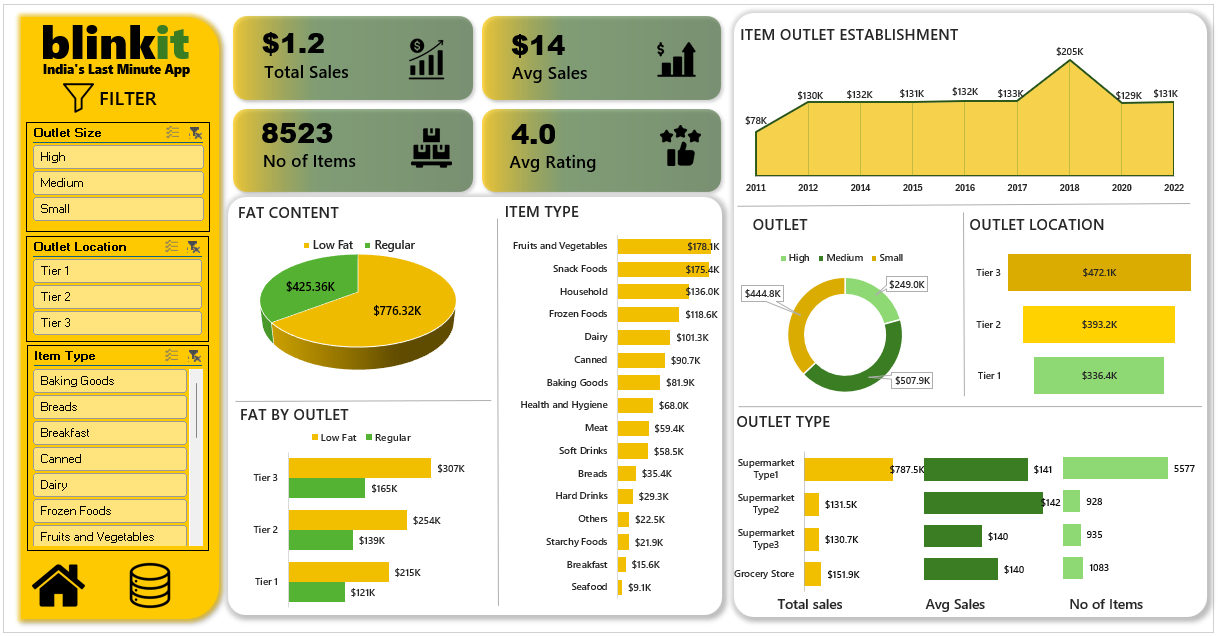

The dashboard page shown, as its layout file describes it:
{"tool":"powerbi","page":{"name":"Page 1","canvas":[1400,780],"ordinal":0},"visuals":[{"type":"shape","box":[12,0,204.1,780.4],"z":0},{"type":"textbox","box":[28.5,3,168.1,81],"z":1000},{"type":"textbox","box":[28.5,69,168.1,30],"z":2000},{"type":"cardVisual","fields":{"Data":["BlinkIT Grocery Data.Total Sales","BlinkIT Grocery Data.Avg Sales","BlinkIT Grocery Data.No of Items","BlinkIT Grocery Data.Avg Rating"]},"box":[220,8.3,570,270],"z":3000},{"type":"shape","box":[225.1,270.2,561.3,510.3],"z":4000},{"type":"donutChart","title":"FAT CONTENT","fields":{"Y":["BlinkIT Grocery Data.Total Sales"],"Category":["BlinkIT Grocery Data.Item Fat Content"]},"box":[244.6,336.2,244.6,210.1],"z":5000},{"type":"slicer","fields":{"Values":["Metrics.Metrics"]},"box":[243.1,286.7,523.8,50],"z":6000},{"type":"cardVisual","fields":{"Data":["BlinkIT Grocery Data.Total Sales"]},"box":[315.2,426.2,100.6,69],"z":7000},{"type":"clusteredBarChart","title":"FAT BY OUTLET","fields":{"Y":["BlinkIT Grocery Data.Total Sales"],"Category":["BlinkIT Grocery Data.Outlet Location Type"],"Series":["BlinkIT Grocery Data.Item Fat Content"]},"box":[244.6,553.8,235.6,223.6],"z":8000},{"type":"shape","box":[247.6,534.3,225.1,24],"z":9000},{"type":"shape","box":[487.8,331.7,13.5,436.8],"z":10000},{"type":"barChart","title":"ITEM TYPE","fields":{"Y":["BlinkIT Grocery Data.Total Sales"],"Category":["BlinkIT Grocery Data.Item Type"]},"box":[505.8,336.2,261.2,432.2],"z":11000},{"type":"shape","box":[797,0,603.3,777.4],"z":12000},{"type":"lineChart","title":"OUTLET ESTABLISHMENT","fields":{"Category":["BlinkIT Grocery Data.Outlet Establishment Year"],"Y":["BlinkIT Grocery Data.Total Sales"]},"box":[813.5,31.5,570.3,238.6],"z":13000},{"type":"shape","box":[813.5,270.2,559.8,16.5],"z":14000},{"type":"shape","box":[1086.6,288.2,12,237.1],"z":15000},{"type":"donutChart","title":"OUTLET SIZE","fields":{"Category":["BlinkIT Grocery Data.Outlet Size"],"Y":["BlinkIT Grocery Data.Total Sales"]},"box":[813.5,295.7,273.2,238.6],"z":16000},{"type":"funnel","title":"OUTLET LOCATION","fields":{"Y":["Sum(BlinkIT Grocery Data.Sales)"],"Category":["BlinkIT Grocery Data.Outlet Location Type"]},"box":[1106.1,295.7,273.2,238.6],"z":17000},{"type":"shape","box":[819.5,537.3,559.8,16.5],"z":18000},{"type":"pivotTable","title":"OUTLET TYPE","fields":{"Rows":["BlinkIT Grocery Data.Outlet Type"],"Values":["BlinkIT Grocery Data.Total Sales","BlinkIT Grocery Data.No of Items","BlinkIT Grocery Data.Avg Sales","BlinkIT Grocery Data.Avg Rating","Avg(BlinkIT Grocery Data.Item Visibility)"]},"box":[816.5,564.3,568.8,189.1],"z":19000},{"type":"slicer","fields":{"Values":["BlinkIT Grocery Data.Outlet Location Type"]},"box":[23,236,184,69],"z":20000},{"type":"slicer","fields":{"Values":["BlinkIT Grocery Data.Outlet Size"]},"box":[22,321,184,69],"z":21000},{"type":"slicer","fields":{"Values":["BlinkIT Grocery Data.Item Type"]},"box":[21.4,414.3,184.3,68.6],"z":22000},{"type":"textbox","box":[81,183.1,105.1,34.5],"z":23000},{"type":"image","box":[40.5,183.1,52.5,34.5],"z":24000},{"type":"slicer","fields":{"Values":["BlinkIT Grocery Data.Outlet Establishment Year"]},"box":[21,503,183.9,69.6],"z":24001}]}

Visuals, with their boxes on the page's 1400x780 design canvas (x1, y1, x2, y2). These are canvas units, not pixel positions in the 1218x636 screenshot, which may show the page scaled, cropped or inside an application window:
shape: l=12, t=0, r=216, b=780
textbox: l=28, t=3, r=197, b=84
textbox: l=28, t=69, r=197, b=99
cardVisual - BlinkIT Grocery Data.Total Sales x BlinkIT Grocery Data.Avg Sales: l=220, t=8, r=790, b=278
shape: l=225, t=270, r=786, b=780
"FAT CONTENT" donutChart: l=245, t=336, r=489, b=546
slicer - Metrics.Metrics: l=243, t=287, r=767, b=337
cardVisual - BlinkIT Grocery Data.Total Sales: l=315, t=426, r=416, b=495
"FAT BY OUTLET" clusteredBarChart: l=245, t=554, r=480, b=777
shape: l=248, t=534, r=473, b=558
shape: l=488, t=332, r=501, b=768
"ITEM TYPE" barChart: l=506, t=336, r=767, b=768
shape: l=797, t=0, r=1400, b=777
"OUTLET ESTABLISHMENT" lineChart: l=814, t=32, r=1384, b=270
shape: l=814, t=270, r=1373, b=287
shape: l=1087, t=288, r=1099, b=525
"OUTLET SIZE" donutChart: l=814, t=296, r=1087, b=534
"OUTLET LOCATION" funnel: l=1106, t=296, r=1379, b=534
shape: l=820, t=537, r=1379, b=554
"OUTLET TYPE" pivotTable: l=816, t=564, r=1385, b=753
slicer - BlinkIT Grocery Data.Outlet Location Type: l=23, t=236, r=207, b=305
slicer - BlinkIT Grocery Data.Outlet Size: l=22, t=321, r=206, b=390
slicer - BlinkIT Grocery Data.Item Type: l=21, t=414, r=206, b=483
textbox: l=81, t=183, r=186, b=218
image: l=40, t=183, r=93, b=218
slicer - BlinkIT Grocery Data.Outlet Establishment Year: l=21, t=503, r=205, b=573
